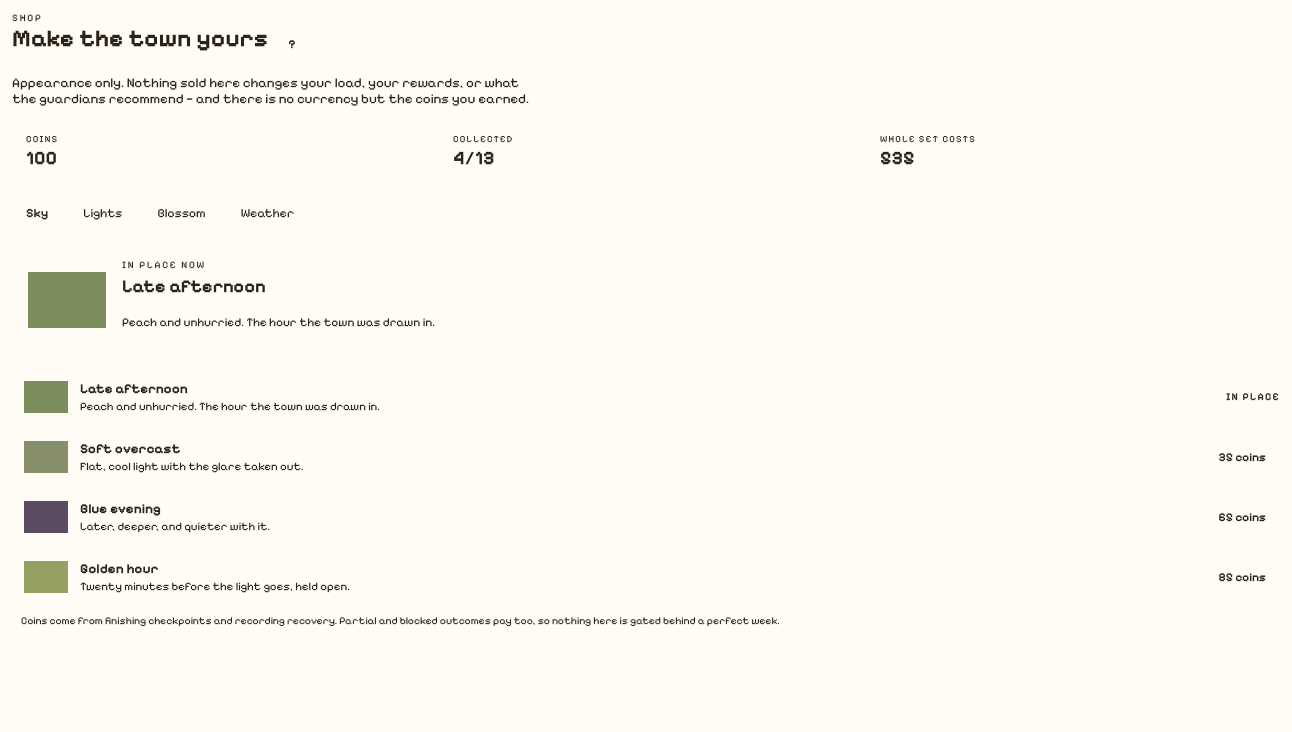
Test: buying › spends the coins and equips what you bought
Click the button "35 coins" at (1242, 457), box [1205,442,1280,472]
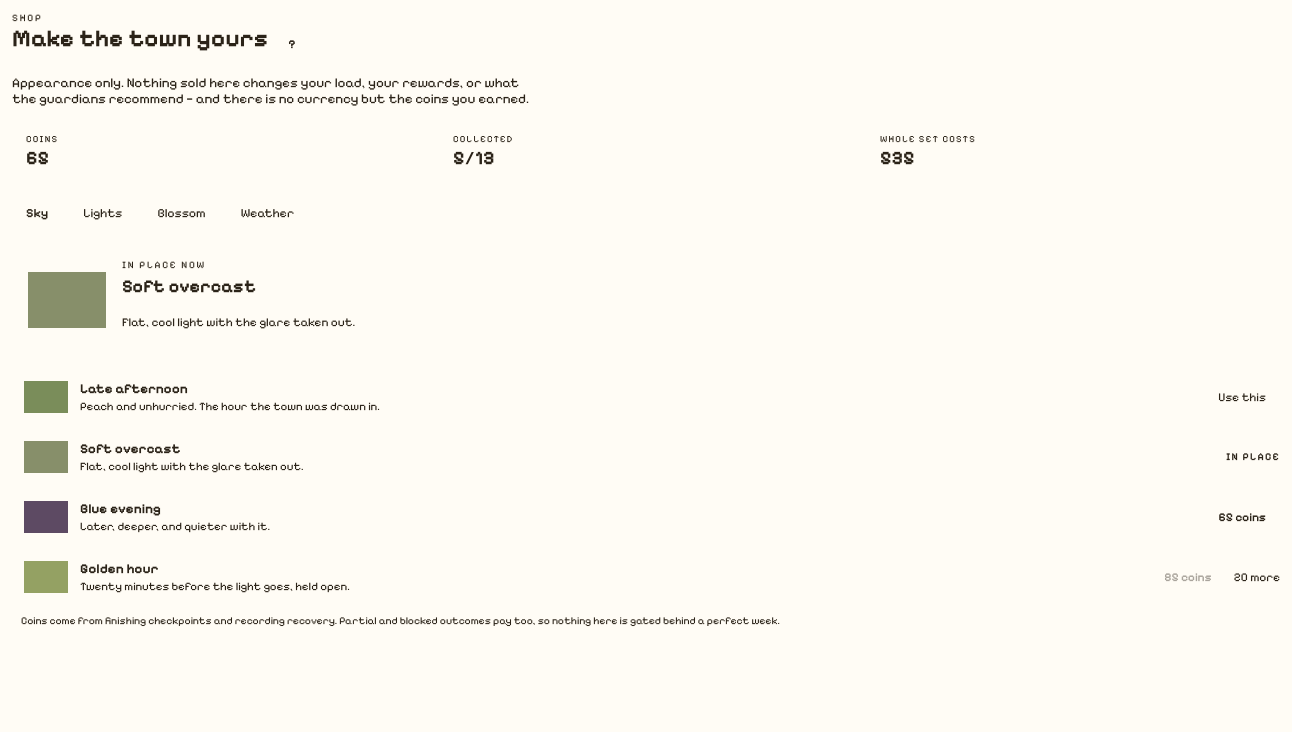
expect the text "In place" is shown: met, box [1226,450,1280,463]
expect the text "65" is shown: met, box [26,147,49,169]
